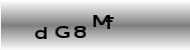8: (73, 25, 86, 39)
G: (54, 24, 70, 39)
M: (93, 14, 111, 28)
d: (33, 25, 48, 40)
f: (105, 15, 114, 29)
